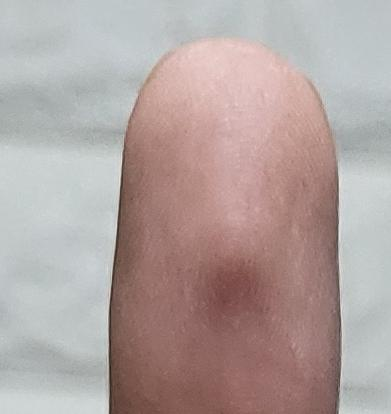Fingerprints: (110, 37, 341, 413)
